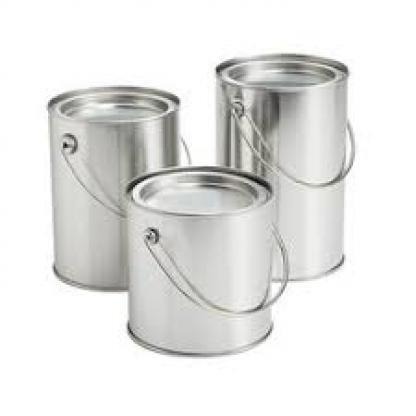METAL: (211, 50, 353, 281), (124, 164, 286, 357), (48, 85, 191, 290)
